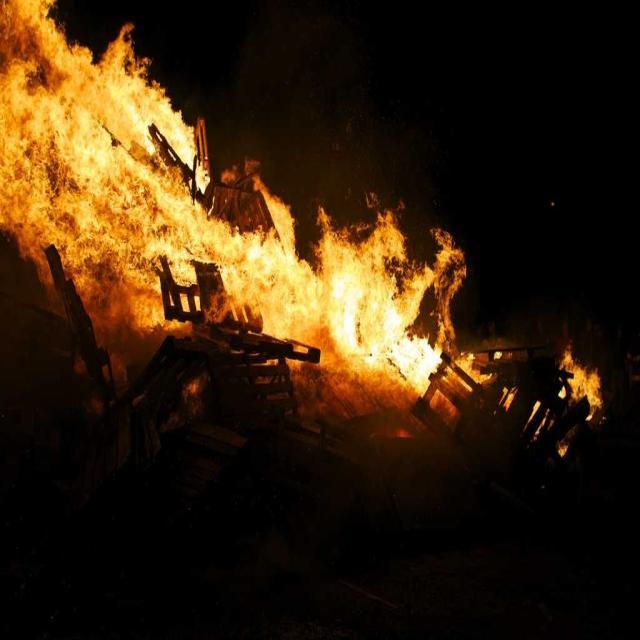Fire: (3, 70, 142, 233), (323, 232, 441, 380), (232, 259, 318, 334), (147, 172, 206, 266)
